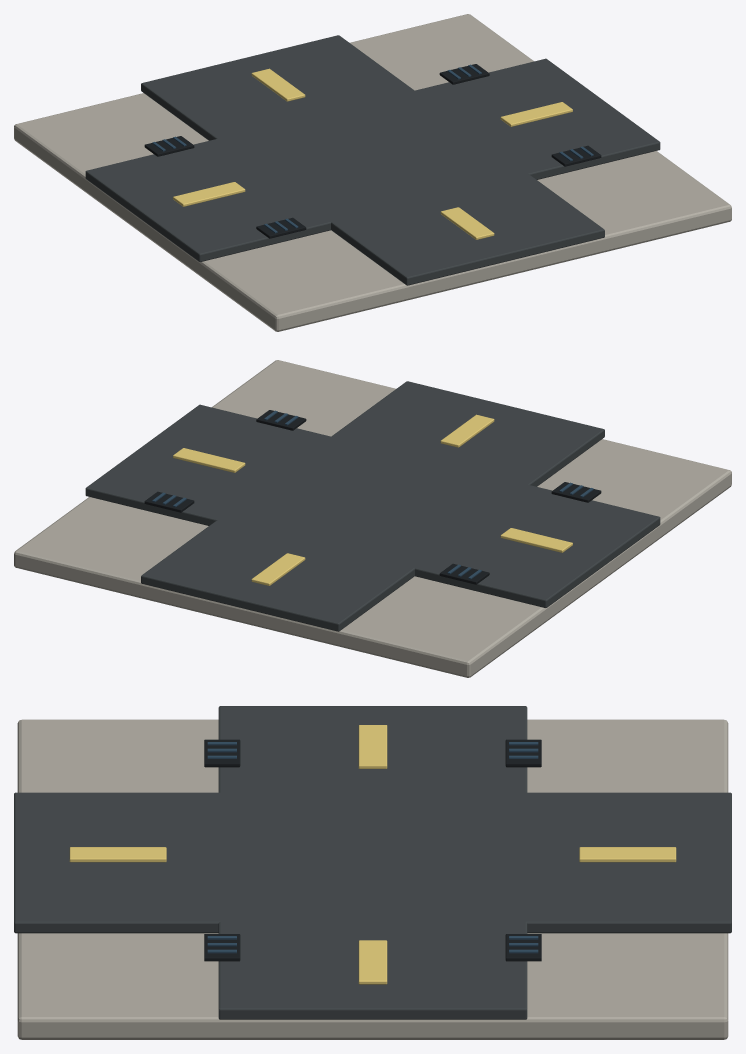
Rendered from ROAD_LOCAL_1x1_CROSS.glb.
3 views of the same model, one above another, from view 1: azimuth 30°, elevation 25°; view 2: azimuth 150°, elevation 25°; view 3: azimuth 270°, elevation 25° (orthographic). The views are drawn at different scales.
Parts seen in each view (by area): view 1: ROAD_LOCAL_1x1_CROSS_Visual; view 2: ROAD_LOCAL_1x1_CROSS_Visual; view 3: ROAD_LOCAL_1x1_CROSS_Visual.
Part boxes in pixels (x1,y1,x2,y2): ROAD_LOCAL_1x1_CROSS_Visual: (14, 14, 731, 331); ROAD_LOCAL_1x1_CROSS_Visual: (14, 360, 731, 677); ROAD_LOCAL_1x1_CROSS_Visual: (14, 706, 731, 1039).
Size of what is drawn, in the model's own units: 2 by 0.137 by 2.
